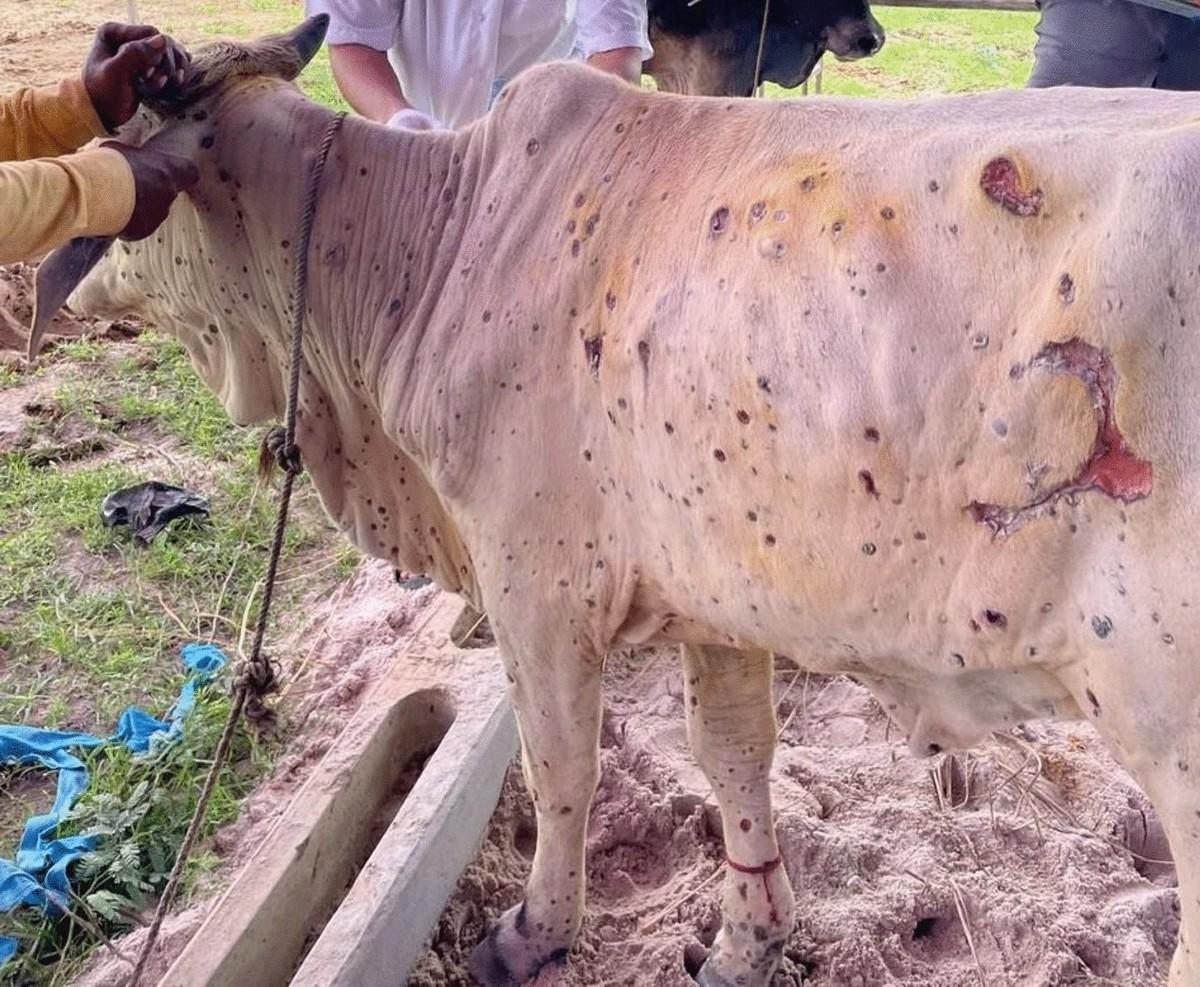infection: (242, 148, 1176, 654)
